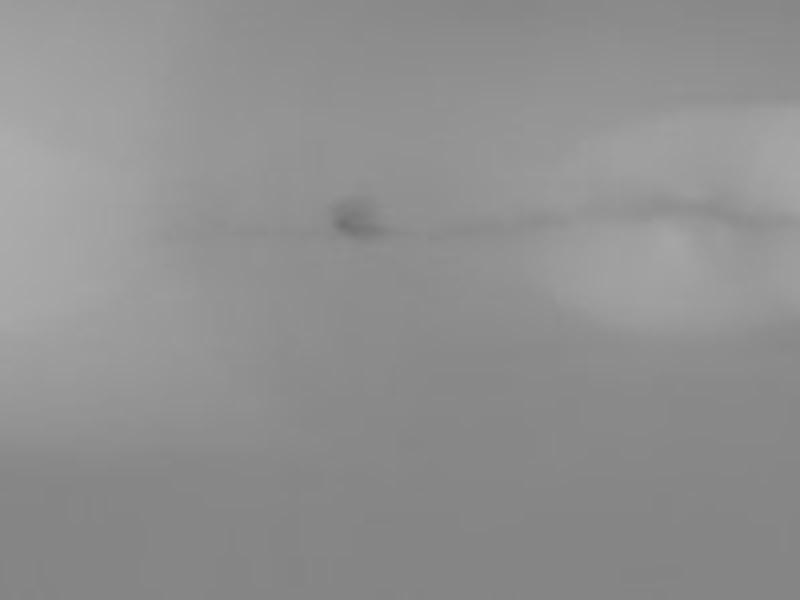defect: (330, 195, 382, 241)
